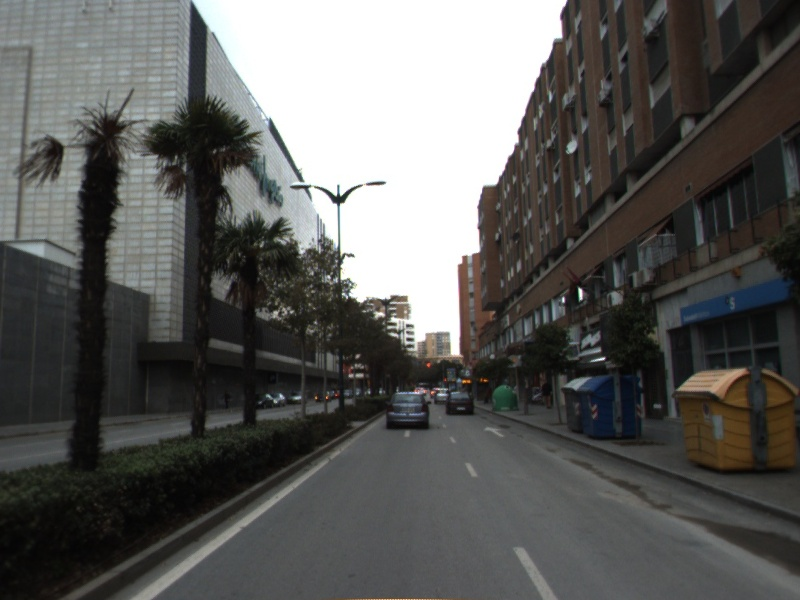STRAIGHT: (481, 425, 506, 439)
